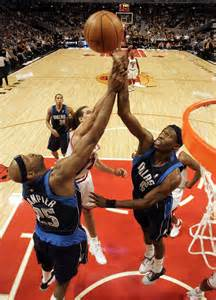basketball: (83, 10, 124, 55)
